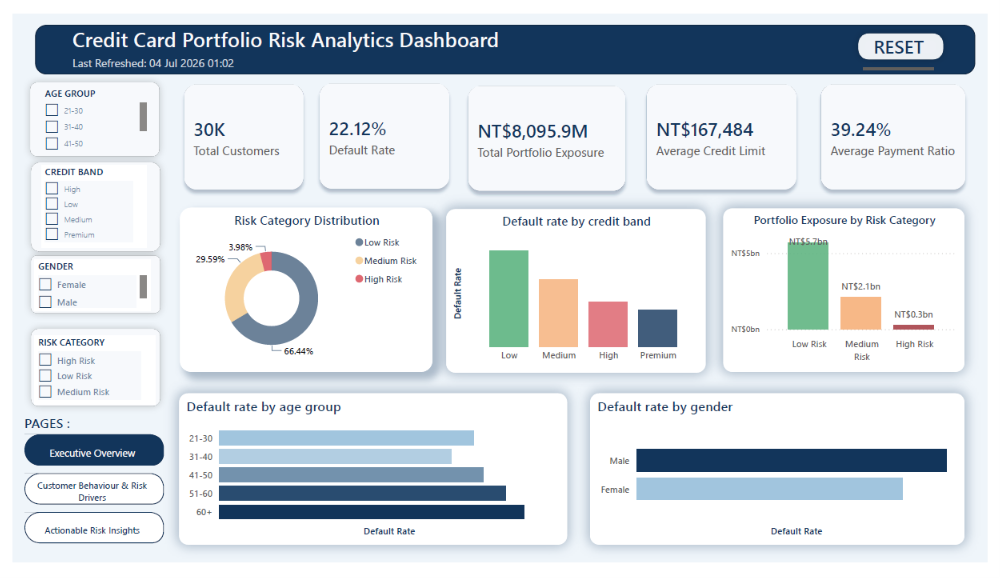

The dashboard page shown, as its layout file describes it:
{"tool":"powerbi","page":{"name":"Executive Overview ","canvas":[1280,720],"ordinal":0},"visuals":[{"type":"shape","box":[28.6,14.3,1235.7,64.3],"z":0},{"type":"textbox","title":"Credit Card Portfolio Risk Analytics Dashboard","box":[72.9,14.3,624.3,64.3],"z":1000},{"type":"shape","box":[11.7,80,190,116.7],"z":2000},{"type":"shape","box":[13.3,306.7,190,96.7],"z":4000},{"type":"listSlicer","title":"AGE GROUP","fields":{"Values":["customers.age_group"]},"box":[36.7,95,143.3,90],"z":5000},{"type":"shape","box":[13.3,403.3,190,121.7],"z":7000},{"type":"listSlicer","title":"GENDER","fields":{"Values":["customers.Gender"]},"box":[28.3,321.7,151.7,68.3],"z":8000},{"type":"listSlicer","title":"RISK CATEGORY","fields":{"Values":["customers.risk_category"]},"box":[28.3,421.7,158.3,91.7],"z":9000},{"type":"shape","box":[13.3,185,190,136.7],"z":10000},{"type":"listSlicer","title":"CREDIT BAND","fields":{"Values":["customers.credit_band"]},"box":[36.7,198.3,138.3,108.3],"z":11000},{"type":"cardVisual","fields":{"Data":["Measures (2).Total Customers"]},"box":[195.7,64.3,214.3,195.7],"z":12000},{"type":"cardVisual","fields":{"Data":["Measures (2).Default Rate"]},"box":[374.3,62.9,228.6,195.7],"z":13000},{"type":"cardVisual","fields":{"Data":["Measures (2).Portfolio Exposure"]},"box":[568.6,65.7,264.3,195.7],"z":14000},{"type":"cardVisual","fields":{"Data":["Measures (2).Average Credit Limit"]},"box":[804.3,64.3,254.3,195.7],"z":15000},{"type":"cardVisual","fields":{"Data":["Measures (2).Average Payment Ratio"]},"box":[1032.9,64.3,247.1,195.7],"z":16000},{"type":"donutChart","title":"Risk Category Distribution","fields":{"Category":["customers.risk_category"],"Y":["Measures (2).Total Customers"]},"box":[218.6,254.3,332.9,215.7],"z":17000},{"type":"columnChart","title":"Default rate by credit band","fields":{"Category":["customers.credit_band"],"Y":["Measures (2).Default Rate"]},"box":[568.6,255.7,341.4,215.7],"z":18000},{"type":"clusteredColumnChart","title":"Portfolio Exposure by Risk Category","fields":{"Category":["customers.risk_category"],"Y":["Sum(customers.Exposure)"]},"box":[933.3,255,316.7,215],"z":19000},{"type":"barChart","title":"Default rate by age group","fields":{"Category":["customers.age_group"],"Y":["Measures (2).Default Rate"]},"box":[218.3,498.3,510,198.3],"z":20000},{"type":"clusteredBarChart","title":"Default rate by gender","fields":{"Category":["customers.Gender"],"Y":["Measures (2).Default Rate"]},"box":[758.3,498.3,491.7,198.3],"z":21000},{"type":"shape","box":[1100,15,131.7,55],"z":22000},{"type":"actionButton","title":"RESET","box":[1117,26,93.3,46.7],"z":23000},{"type":"pageNavigator","title":"PAGES :","box":[15,525,183.3,171.7],"z":24000}]}

Visuals, with their boxes in screenshot pixels (x1, y1, x2, y2), scaled from the page's 1280x720 canvas onto the 1000x578 screenshot:
shape: 22, 11, 988, 63
"Credit Card Portfolio Risk Analytics Dashboard" textbox: 57, 11, 545, 63
shape: 9, 64, 158, 158
shape: 10, 246, 159, 324
"AGE GROUP" listSlicer: 29, 76, 141, 149
shape: 10, 324, 159, 421
"GENDER" listSlicer: 22, 258, 141, 313
"RISK CATEGORY" listSlicer: 22, 339, 146, 412
shape: 10, 149, 159, 258
"CREDIT BAND" listSlicer: 29, 159, 137, 246
cardVisual - Measures (2).Total Customers: 153, 52, 320, 209
cardVisual - Measures (2).Default Rate: 292, 50, 471, 208
cardVisual - Measures (2).Portfolio Exposure: 444, 53, 651, 210
cardVisual - Measures (2).Average Credit Limit: 628, 52, 827, 209
cardVisual - Measures (2).Average Payment Ratio: 807, 52, 999, 209
"Risk Category Distribution" donutChart: 171, 204, 431, 377
"Default rate by credit band" columnChart: 444, 205, 711, 378
"Portfolio Exposure by Risk Category" clusteredColumnChart: 729, 205, 977, 377
"Default rate by age group" barChart: 171, 400, 569, 559
"Default rate by gender" clusteredBarChart: 592, 400, 977, 559
shape: 859, 12, 962, 56
"RESET" actionButton: 873, 21, 946, 58
"PAGES :" pageNavigator: 12, 421, 155, 559
